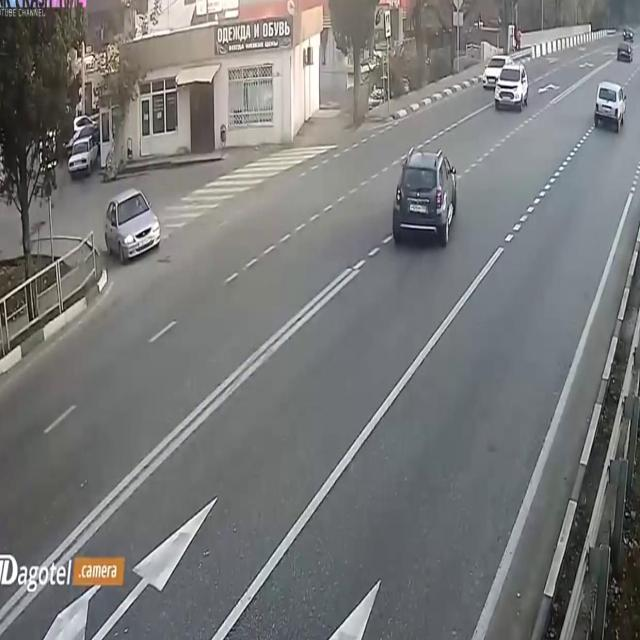non_accident: (480, 49, 532, 119)
